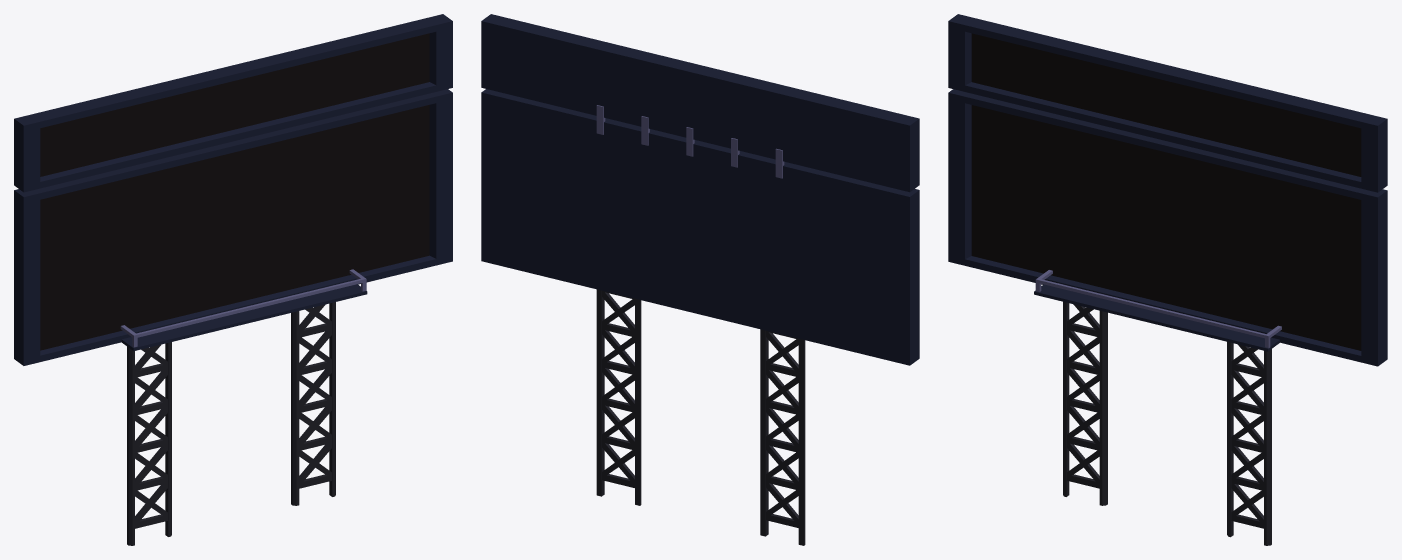
Rendered from scoreboard.fbx.
3 renders of one model, left to right at view 1: azimuth 30°, elevation 25°; view 2: azimuth 150°, elevation 25°; view 3: azimuth 330°, elevation 25°, orthographic.
Parts seen in each view (by area): view 1: main_board, sec_board, stand; view 2: main_board, sec_board, stand; view 3: main_board, sec_board, stand.
Part boxes in pixels (box(x1,y1,x2,y2)): main_board: box(14, 89, 452, 365); sec_board: box(14, 14, 452, 192); stand: box(120, 269, 367, 545); main_board: box(481, 89, 919, 365); sec_board: box(481, 14, 919, 192); stand: box(596, 105, 805, 545); main_board: box(948, 89, 1387, 366); sec_board: box(948, 14, 1387, 192); stand: box(1034, 270, 1281, 545).
Bounding box in the file's own units: 65.39 × 65.54 × 5.93.
